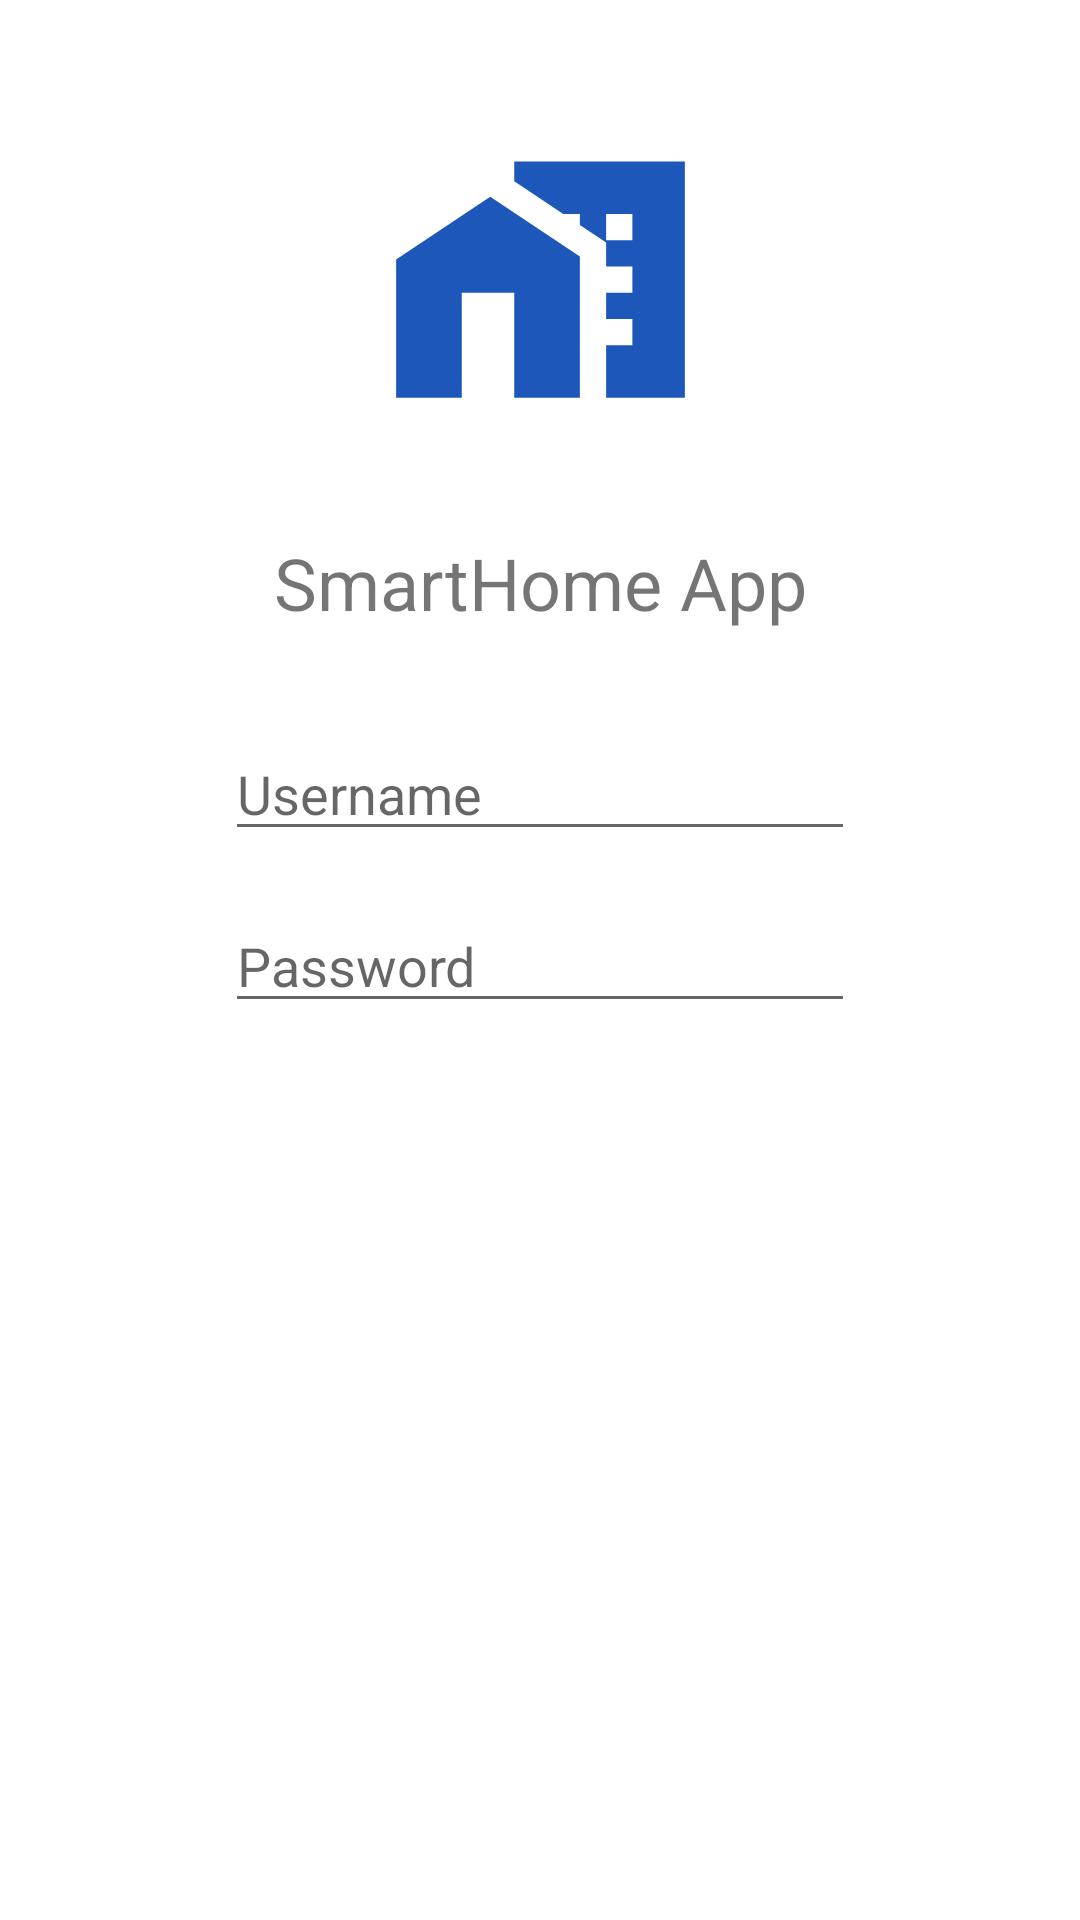

Icon click points for this 1080px×1920px phone screenshot, format point (x, y):
home work: point (540, 279)
